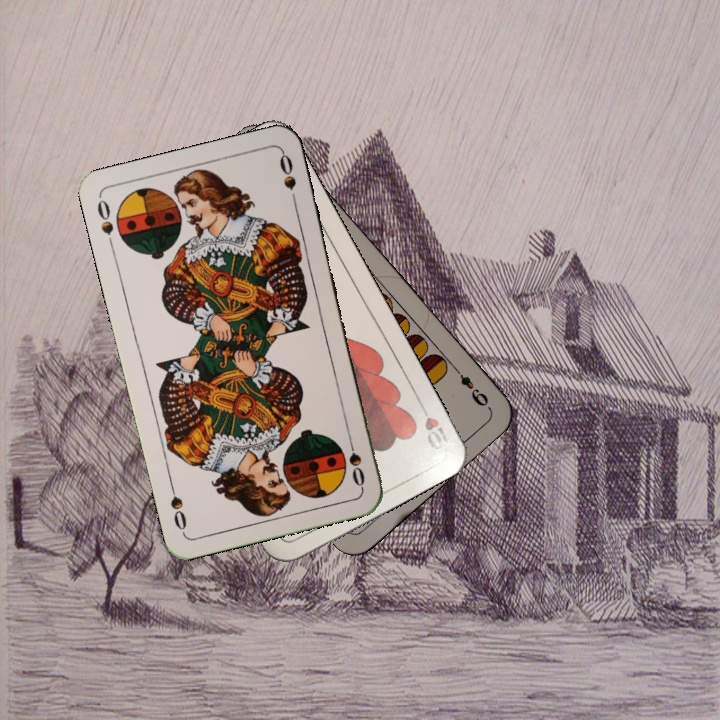E9: (449, 362, 491, 409)
H10: (414, 396, 453, 454)
SO: (343, 431, 367, 490), (93, 195, 117, 253)
